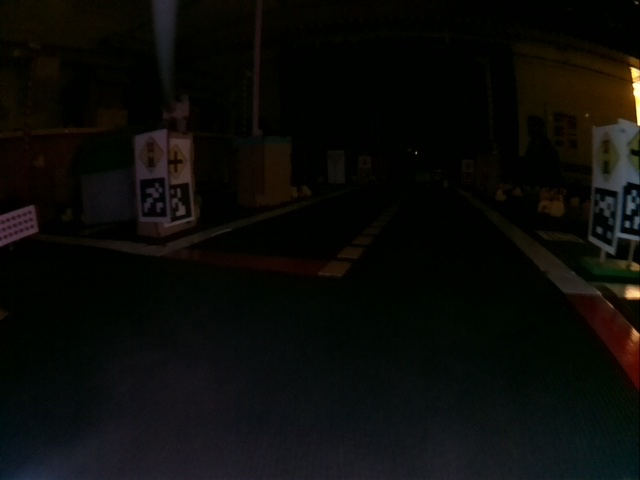Intersection sign: (170, 141, 188, 177)
QR code: (589, 186, 617, 247), (137, 182, 166, 218), (166, 182, 194, 218)
Signal sign: (592, 132, 618, 176), (135, 136, 162, 174)
